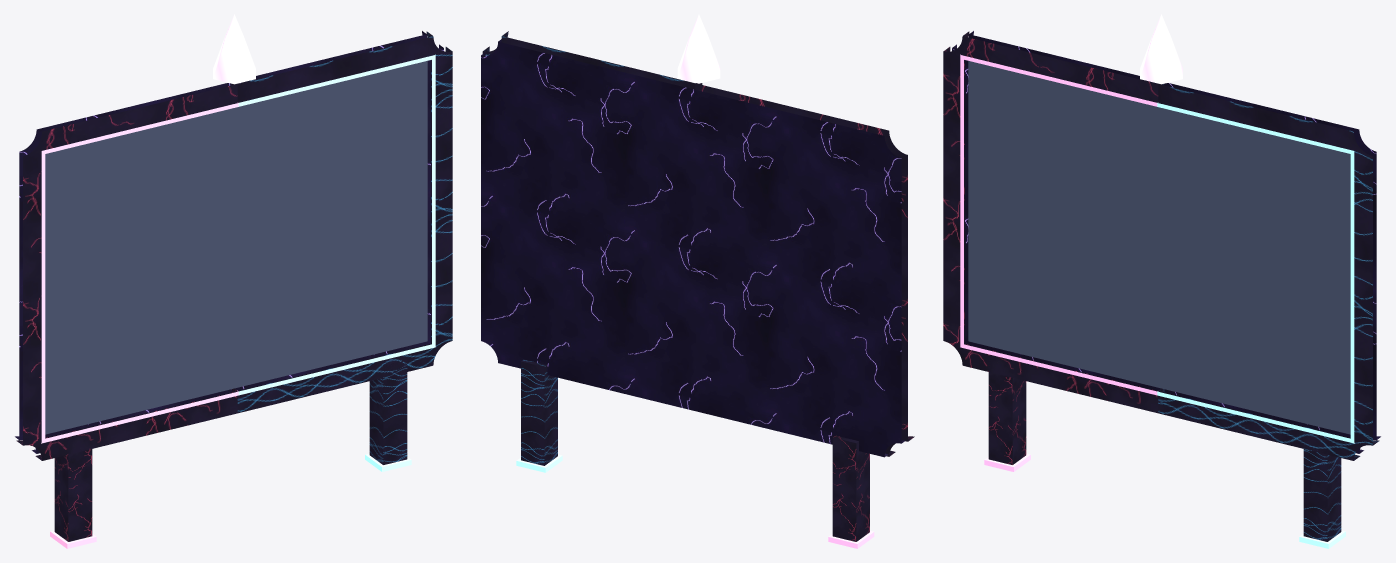
File: ct_screen.glb
3 views of the same model, side by side, from view 1: azimuth 30°, elevation 25°; view 2: azimuth 150°, elevation 25°; view 3: azimuth 330°, elevation 25° (orthographic).
Visible parts, largest first — view 1: screen; view 2: screen; view 3: screen.
Boxes of the visible parts, x1,y1,x2,y2 form: screen: (15,14,452,548); screen: (481,14,914,548); screen: (943,14,1380,548).
Size of the model in its own units: 9 by 9.8 by 0.8297.
7 materials, 3 textured.
